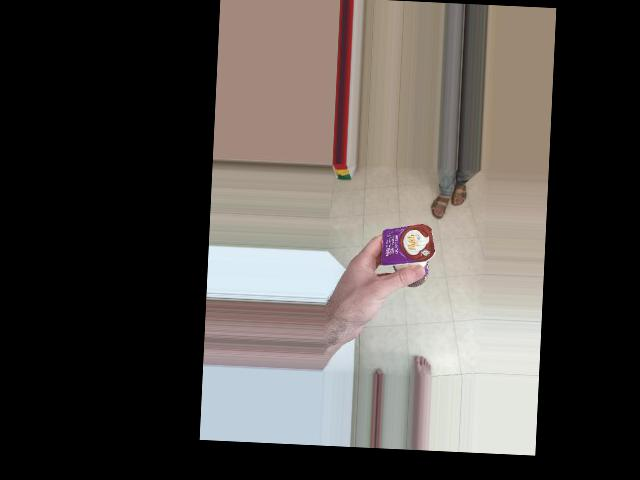milky: (377, 218, 434, 298)
